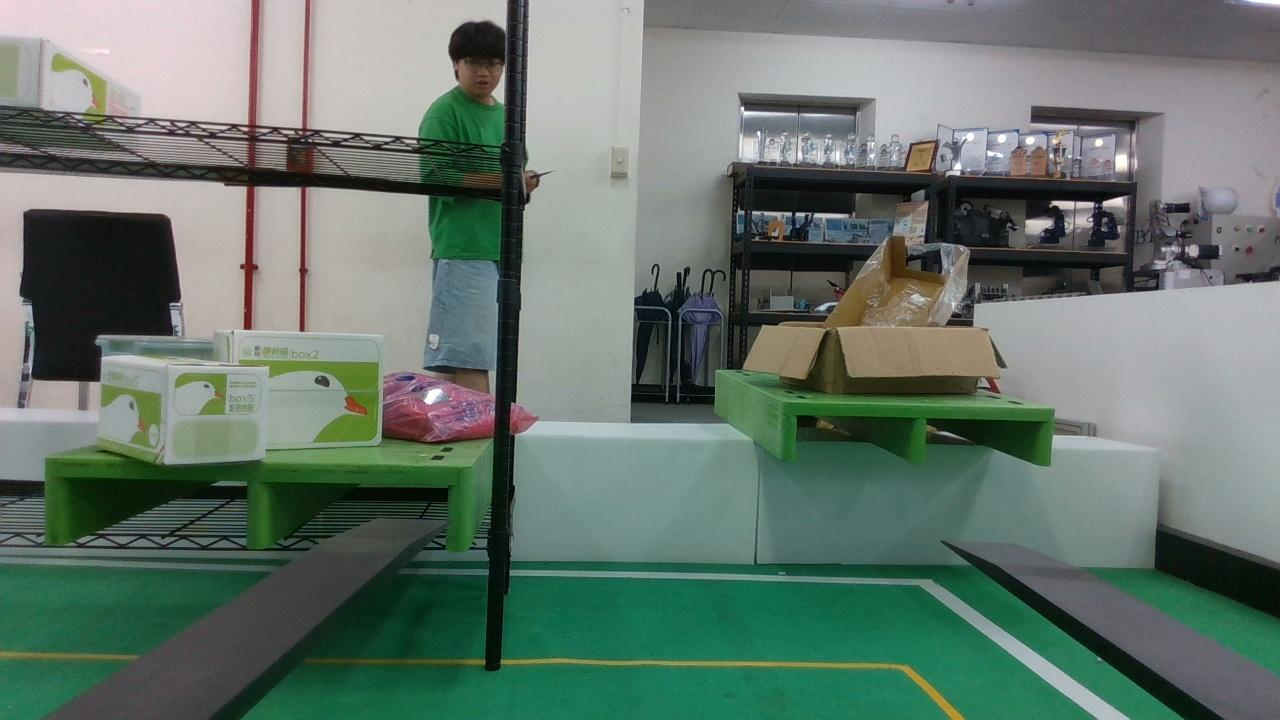Pallet: (42, 454, 476, 551), (780, 399, 1054, 467)
